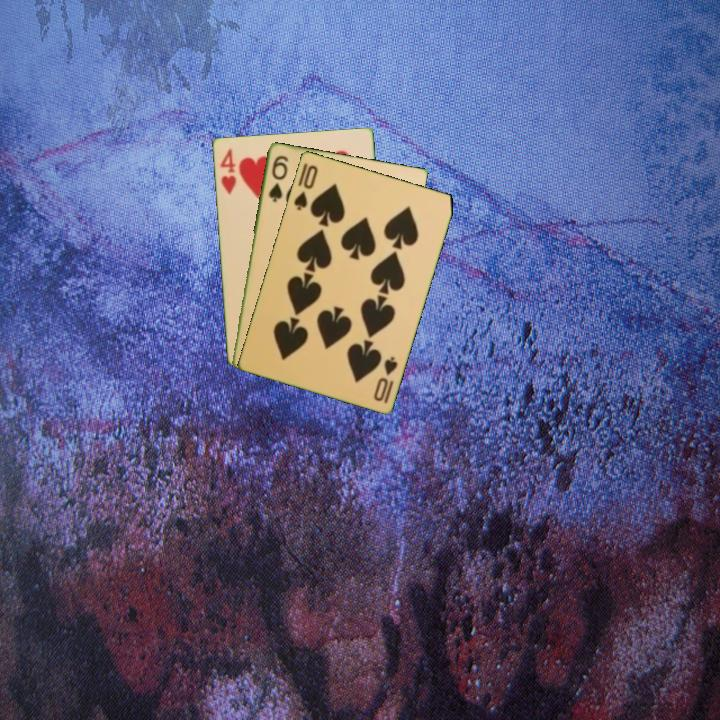10s: (370, 352, 401, 406), (290, 161, 320, 213)
4h: (216, 145, 239, 197)
6s: (265, 152, 291, 205)
